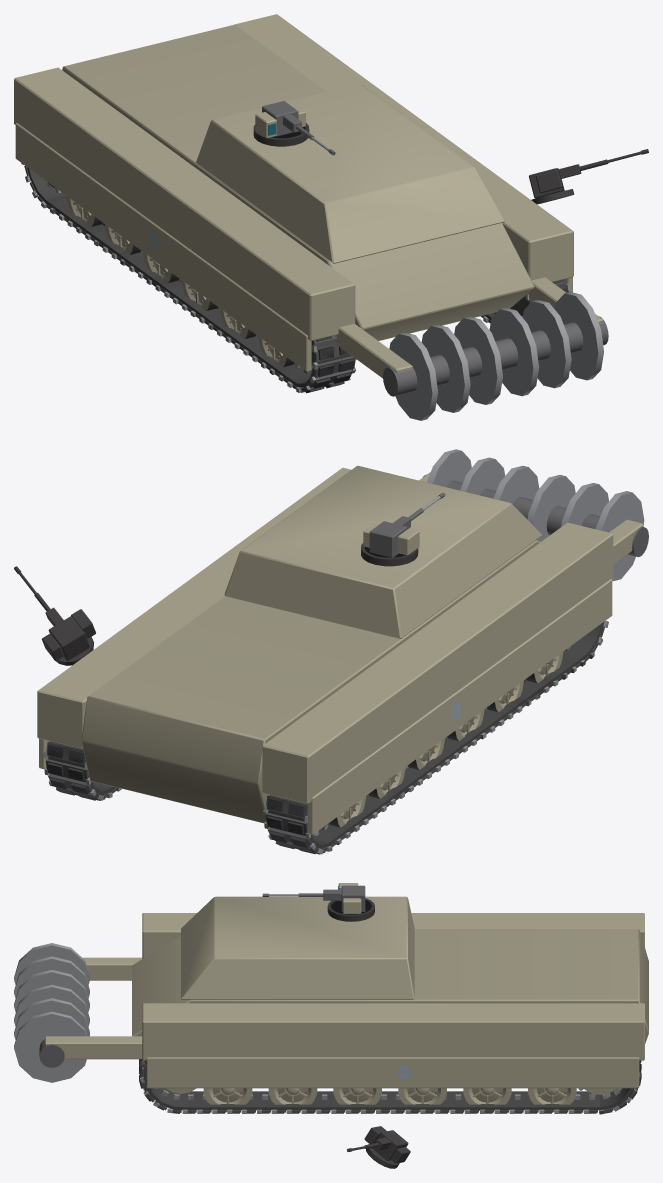
File: mineClearer__keiler.glb
The picture shows the model from 3 angles, top to bottom: view 1: azimuth 30°, elevation 25°; view 2: azimuth 150°, elevation 25°; view 3: azimuth 270°, elevation 25°; orthographic projection. The views are drawn at different scales.
Visible parts, largest first — view 1: Hull_Mesh, Track_L_Mesh, Wreck, Turret_Mesh; view 2: Hull_Mesh, Track_L_Mesh, Wreck, Track_R_Mesh, Turret_Mesh; view 3: Hull_Mesh, Track_R_Mesh, Wreck, Wheel_R4_Mesh, Wheel_R5_Mesh, Wheel_R0_Mesh, Turret_Mesh, Wheel_R2_Mesh, Wheel_R3_Mesh, Wheel_R1_Mesh, Gun_Mesh.
Boxes of the visible parts, x1,y1,x2,y2 form: Hull_Mesh: [14, 14, 608, 420]; Track_L_Mesh: [21, 163, 356, 393]; Wreck: [24, 123, 648, 392]; Turret_Mesh: [255, 101, 305, 138]; Hull_Mesh: [37, 449, 648, 834]; Track_L_Mesh: [263, 620, 608, 854]; Wreck: [14, 543, 608, 853]; Track_R_Mesh: [43, 741, 121, 800]; Turret_Mesh: [363, 521, 419, 557]; Hull_Mesh: [14, 896, 648, 1088]; Track_R_Mesh: [139, 1059, 641, 1114]; Wreck: [139, 898, 641, 1168]; Wheel_R4_Mesh: [268, 1088, 317, 1110]; Wheel_R5_Mesh: [203, 1088, 252, 1111]; Wheel_R0_Mesh: [528, 1088, 576, 1111]; Turret_Mesh: [338, 883, 365, 913]; Wheel_R2_Mesh: [398, 1088, 446, 1111]; Wheel_R3_Mesh: [333, 1088, 381, 1111]; Wheel_R1_Mesh: [463, 1088, 511, 1110]; Gun_Mesh: [262, 889, 341, 900].
Size of what is drawn, in the model's own units: 6.41 by 2.46 by 9.01.
